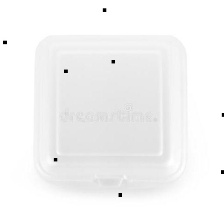foam_box: (24, 26, 193, 195)
